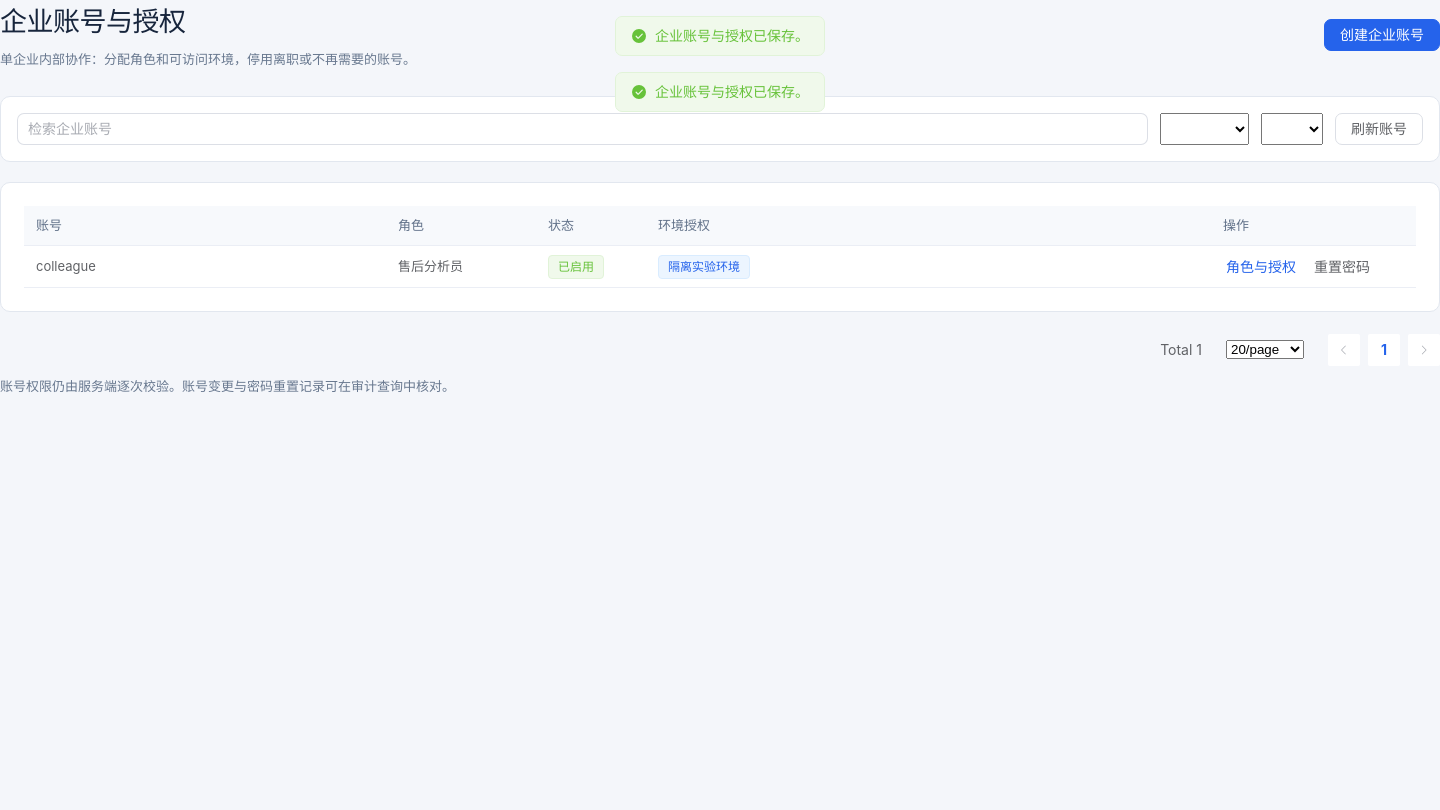
Test: enterprise administrator pages with explicitly mocked API › resets password through a dedicated request and clears it on failure
Click the button "重置密码": (1342,267) [1311, 257, 1373, 277]
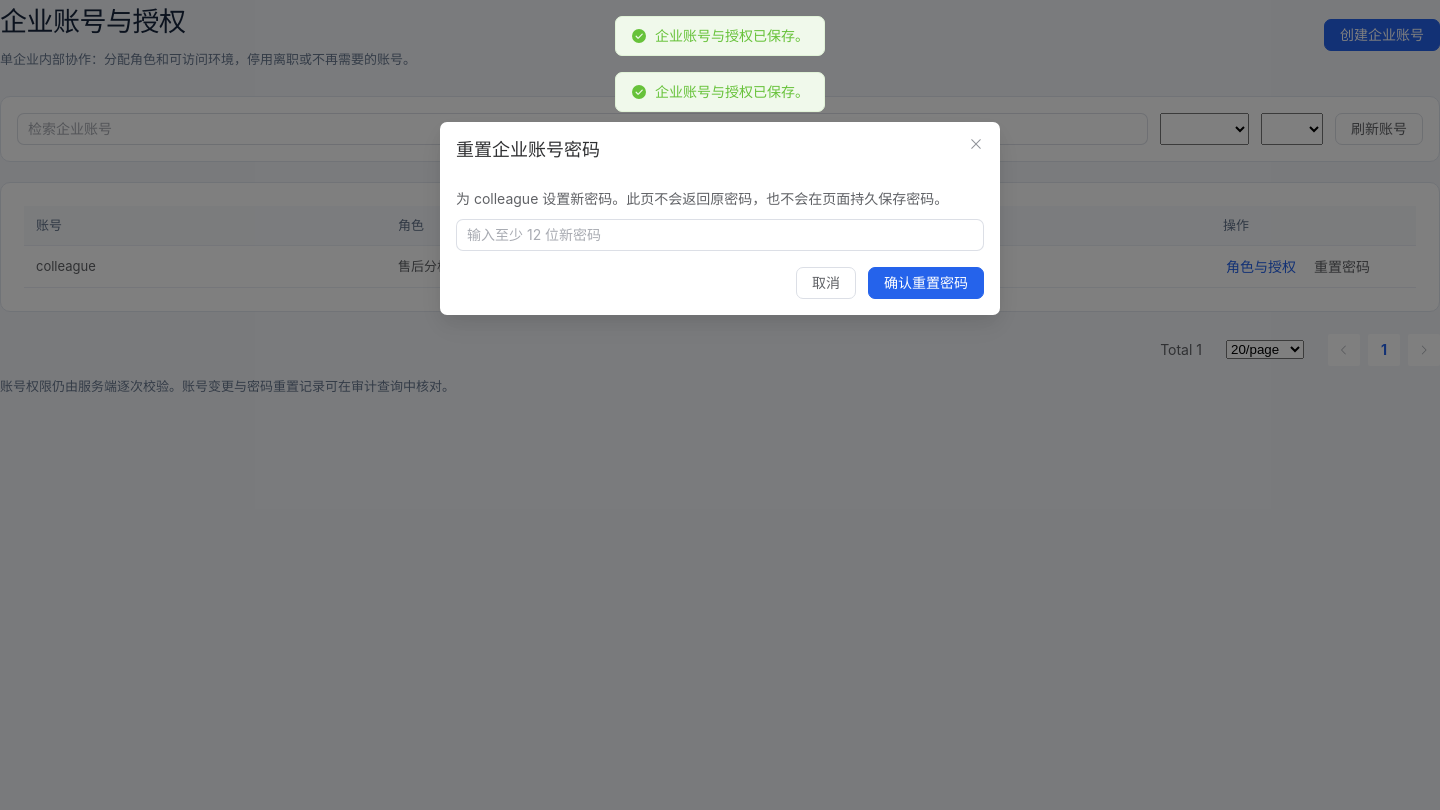
In the password field with placeholder "输入至少 12 位新密码": (720,235) [467, 220, 973, 250], type "component-only-reset-password"
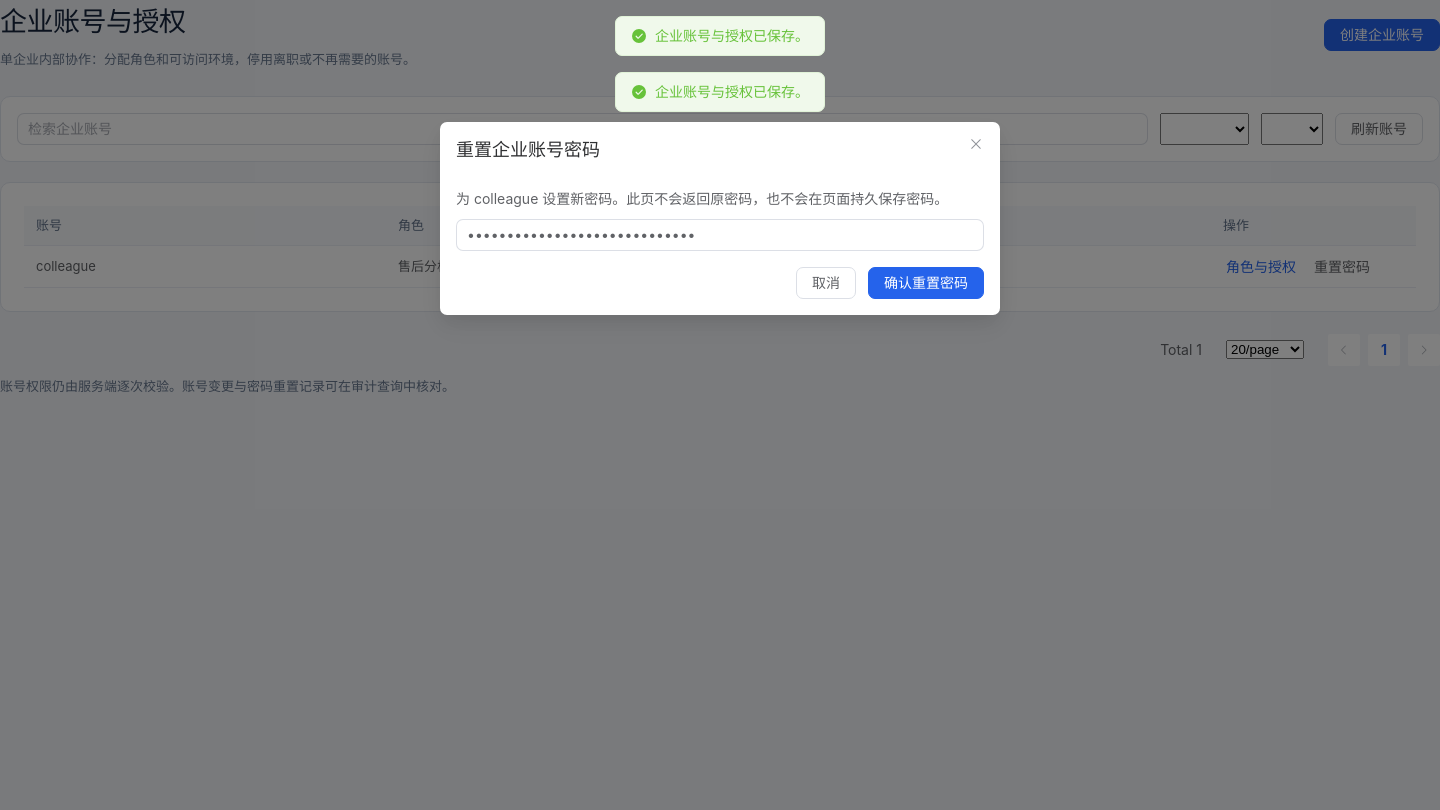
Click the button "确认重置密码": (926,283) [868, 267, 984, 299]
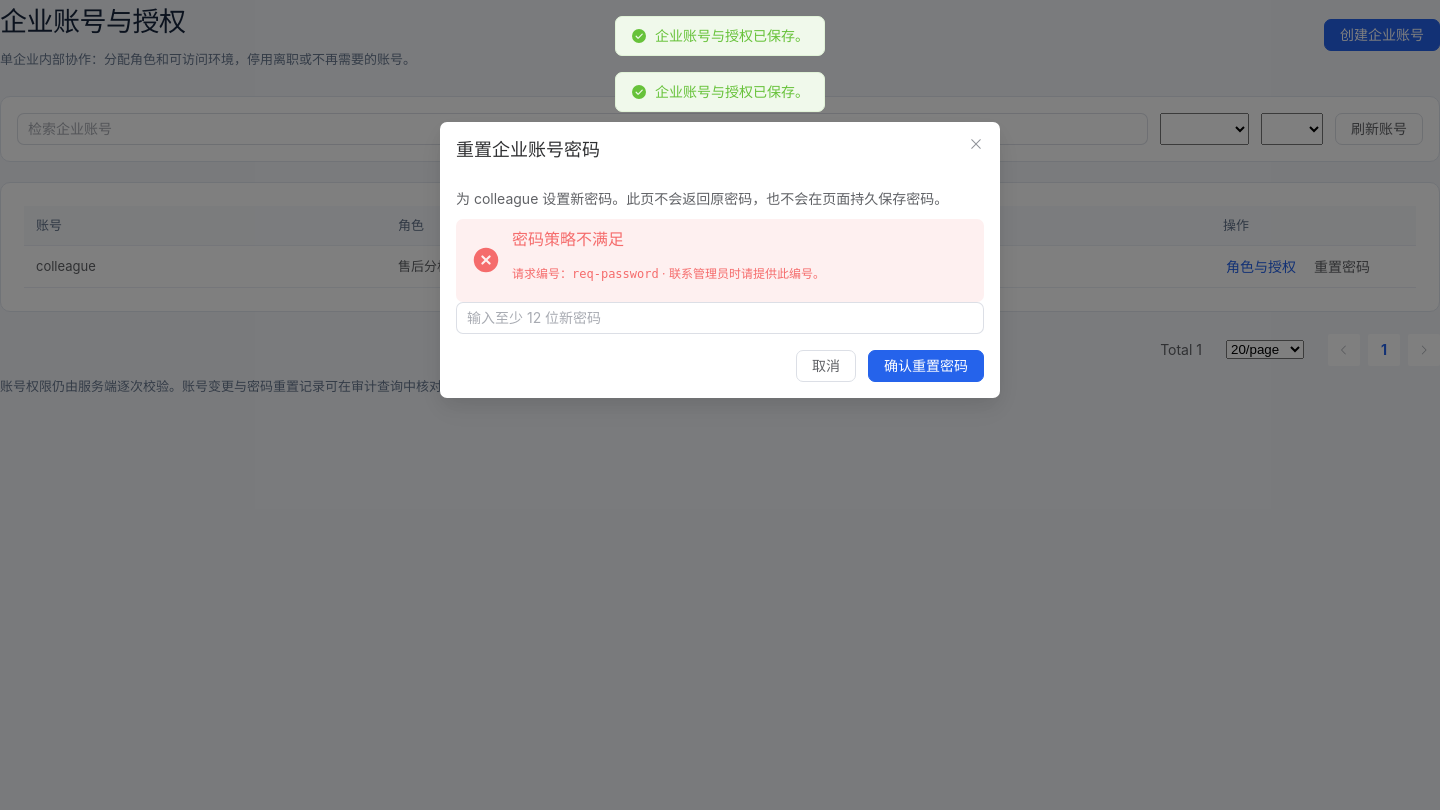
Result: the text "req-password" is shown at [572, 267, 659, 281]
Result: the password field with placeholder "输入至少 12 位新密码" is empty at [467, 303, 973, 333]
